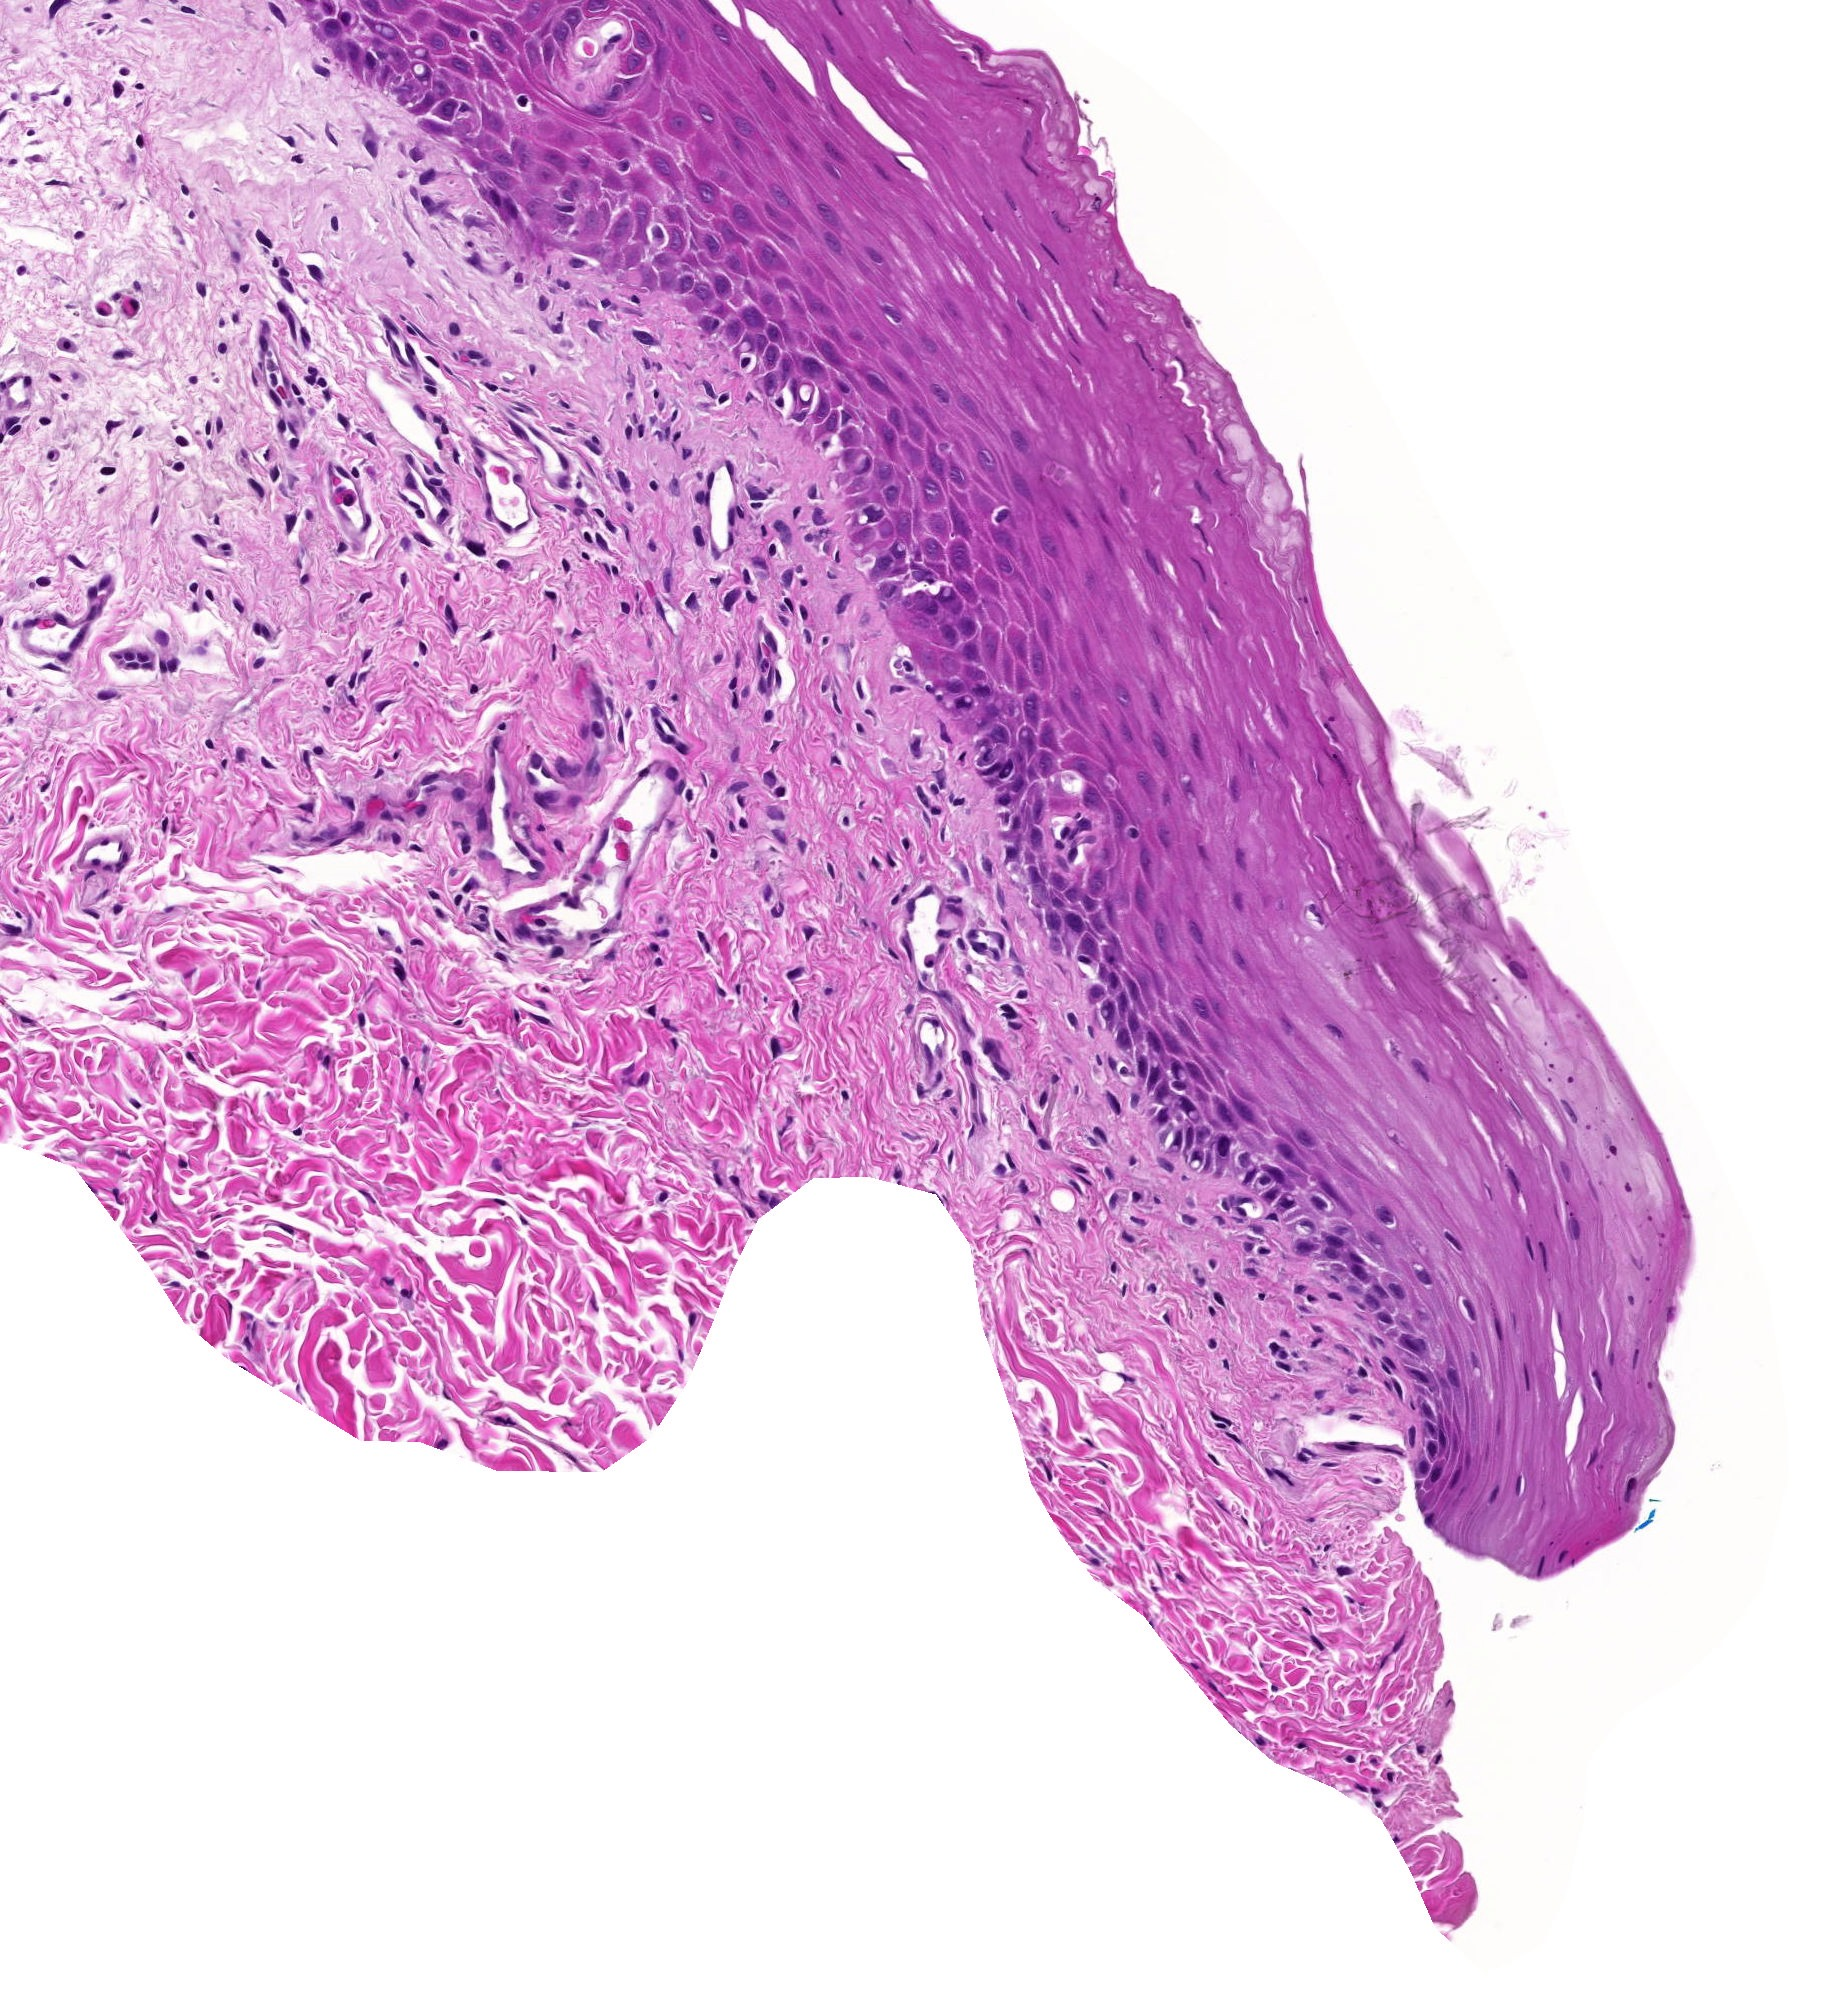epithelial: (1058, 904, 1092, 937), (1415, 1362, 1450, 1395), (1221, 1085, 1255, 1120), (430, 92, 463, 125), (476, 178, 509, 211), (469, 51, 502, 84), (362, 51, 396, 84), (343, 38, 376, 71), (368, 57, 401, 91), (477, 23, 511, 56), (411, 99, 444, 132), (322, 16, 355, 49), (476, 166, 509, 199), (443, 777, 476, 810), (693, 308, 727, 341), (814, 336, 847, 369), (871, 420, 904, 453), (857, 239, 890, 272), (808, 193, 842, 226), (626, 23, 659, 56), (878, 401, 911, 434), (814, 408, 847, 441), (951, 389, 984, 422), (810, 26, 843, 59), (815, 134, 849, 167), (552, 3, 585, 37), (699, 301, 732, 334), (749, 61, 782, 94), (706, 279, 739, 312), (605, 70, 638, 103), (810, 416, 843, 449), (516, 192, 549, 225), (808, 329, 842, 362), (558, 146, 591, 179), (706, 308, 739, 341), (747, 331, 781, 364), (767, 267, 800, 300), (659, 213, 692, 246), (538, 26, 572, 59), (904, 395, 937, 429), (817, 92, 850, 125), (932, 617, 965, 650), (1033, 235, 1066, 268), (993, 185, 1026, 218), (1202, 423, 1235, 456), (1094, 963, 1127, 997), (1072, 930, 1105, 963), (1223, 840, 1256, 873), (1040, 885, 1073, 918), (1012, 725, 1045, 758), (1065, 749, 1098, 782), (991, 749, 1025, 782), (1033, 530, 1066, 563), (1328, 754, 1361, 787), (1059, 679, 1092, 713), (1397, 829, 1431, 862), (1012, 707, 1045, 740), (1045, 901, 1079, 934), (1025, 692, 1058, 725), (1086, 498, 1119, 531), (1105, 965, 1138, 998), (1094, 747, 1127, 780), (1342, 1253, 1375, 1286), (1209, 1098, 1242, 1131), (1227, 1092, 1260, 1125), (1155, 1026, 1188, 1059), (1410, 1394, 1443, 1427), (1167, 1012, 1201, 1045), (1267, 1171, 1300, 1204), (1457, 1343, 1490, 1376), (1140, 1045, 1173, 1078), (1167, 1075, 1201, 1108), (1443, 1524, 1476, 1557), (1498, 951, 1532, 984), (1558, 1211, 1591, 1244), (1497, 1162, 1530, 1195), (1613, 1469, 1647, 1502), (1511, 1361, 1544, 1394), (1546, 1538, 1579, 1571), (1157, 1084, 1192, 1115), (354, 44, 385, 77), (328, 3, 361, 35), (336, 35, 369, 66), (443, 91, 474, 124), (436, 12, 467, 45), (408, 59, 441, 91), (422, 24, 453, 57), (376, 37, 408, 70), (418, 111, 451, 143), (364, 38, 396, 71), (463, 148, 497, 179), (450, 2, 483, 33), (340, 45, 371, 78), (737, 300, 768, 333), (795, 348, 828, 380), (756, 317, 789, 348), (645, 148, 678, 179), (753, 366, 786, 397), (598, 78, 631, 110), (805, 392, 838, 423), (829, 401, 862, 432), (537, 143, 570, 174), (549, 193, 580, 226), (828, 371, 861, 402), (688, 172, 721, 204), (941, 458, 972, 491), (497, 195, 530, 226), (605, 211, 638, 242), (876, 296, 910, 328), (971, 207, 1004, 239), (531, 35, 565, 66), (849, 449, 882, 481), (782, 348, 815, 380), (802, 291, 835, 322), (706, 16, 737, 49), (655, 199, 688, 230), (545, 17, 577, 51), (964, 35, 997, 66), (883, 357, 915, 390), (687, 277, 720, 308), (911, 469, 944, 500), (753, 282, 784, 315), (864, 155, 897, 186), (875, 477, 908, 509), (645, 244, 678, 275), (913, 328, 944, 361), (580, 233, 612, 267), (551, 120, 584, 152), (756, 193, 788, 226), (727, 110, 760, 141), (545, 202, 578, 233), (632, 261, 666, 293), (784, 80, 817, 111), (812, 211, 843, 244), (932, 451, 964, 484), (786, 382, 817, 415), (861, 451, 892, 484), (746, 307, 777, 340), (754, 70, 788, 101), (774, 364, 805, 397), (815, 317, 849, 348), (732, 284, 763, 317), (821, 343, 852, 376), (897, 439, 930, 470), (802, 354, 833, 387), (953, 610, 984, 643), (937, 671, 971, 702), (857, 498, 889, 531), (925, 580, 957, 613), (866, 547, 899, 578), (955, 634, 986, 667), (911, 559, 943, 592), (943, 538, 976, 570), (972, 693, 1004, 726), (882, 538, 915, 570), (934, 584, 965, 617), (944, 509, 976, 542), (577, 749, 608, 782), (976, 753, 1007, 786), (904, 580, 936, 613), (974, 627, 1005, 660), (847, 517, 878, 551), (922, 510, 955, 542), (969, 725, 1000, 758), (551, 754, 584, 786), (887, 509, 918, 542), (903, 556, 934, 589), (946, 519, 977, 552), (974, 716, 1007, 747), (876, 551, 910, 582), (915, 570, 946, 603), (883, 526, 915, 559), (922, 557, 955, 589), (869, 564, 901, 598), (1004, 422, 1035, 455), (1080, 186, 1112, 220), (1099, 261, 1133, 293), (1202, 458, 1234, 491), (1045, 207, 1079, 239), (1084, 301, 1115, 334), (1176, 427, 1207, 460), (1126, 336, 1159, 368), (1004, 465, 1035, 498), (1011, 124, 1044, 155), (1059, 331, 1091, 364), (1148, 359, 1181, 390), (1011, 143, 1044, 174), (1011, 84, 1042, 117), (991, 315, 1025, 347), (1037, 906, 1070, 937), (1221, 883, 1253, 916), (1180, 726, 1211, 760), (1021, 793, 1052, 826), (1145, 728, 1176, 761), (1030, 720, 1061, 753), (1073, 887, 1105, 920), (1322, 746, 1354, 779), (1019, 861, 1051, 894), (1138, 545, 1169, 578), (1127, 765, 1160, 796), (1094, 943, 1127, 974), (1082, 862, 1113, 895), (1187, 834, 1218, 868), (1223, 944, 1256, 976), (991, 782, 1023, 815), (1302, 895, 1333, 929), (1145, 915, 1176, 948), (1080, 908, 1113, 939), (1140, 618, 1173, 650), (1075, 563, 1106, 596), (1077, 876, 1108, 909), (1150, 780, 1181, 814), (1267, 699, 1298, 732), (1106, 678, 1138, 711), (1108, 976, 1140, 1009), (1091, 528, 1124, 559), (1011, 758, 1044, 789), (1080, 976, 1113, 1007), (1032, 578, 1065, 610), (1086, 941, 1119, 972), (1256, 733, 1289, 765), (1124, 965, 1155, 998), (1373, 862, 1404, 895), (1007, 732, 1038, 765), (1343, 805, 1377, 836), (1356, 902, 1389, 934), (1190, 613, 1221, 646), (1303, 761, 1335, 794), (1089, 956, 1120, 990), (1077, 895, 1108, 929), (1364, 847, 1397, 878), (993, 761, 1026, 793), (991, 524, 1025, 556), (1049, 869, 1080, 902), (1317, 737, 1349, 770), (1012, 803, 1045, 834), (1108, 812, 1141, 843), (1000, 753, 1033, 784), (1147, 923, 1178, 956), (1378, 873, 1411, 904), (1026, 866, 1059, 897), (1169, 1089, 1202, 1120), (1140, 1026, 1173, 1057), (1159, 1052, 1192, 1084), (1316, 1230, 1349, 1261), (1375, 1275, 1408, 1307), (1368, 1199, 1401, 1230), (1262, 1159, 1293, 1192), (1288, 1120, 1319, 1153), (1270, 1134, 1302, 1167), (1288, 1230, 1321, 1261), (1420, 1456, 1451, 1490), (1147, 1098, 1178, 1131), (1253, 1178, 1284, 1211), (1181, 1117, 1213, 1150), (1268, 1188, 1302, 1220), (1176, 1054, 1209, 1085), (1162, 1120, 1195, 1152), (1321, 1221, 1352, 1254), (1314, 1172, 1345, 1206), (1180, 1136, 1211, 1169), (1253, 1167, 1284, 1200), (1302, 1186, 1335, 1218), (1357, 1282, 1389, 1315), (1371, 1348, 1404, 1380), (1092, 995, 1126, 1026), (1424, 1425, 1457, 1456), (1370, 1301, 1401, 1334), (1173, 1110, 1204, 1143), (1187, 995, 1220, 1026), (1453, 1289, 1485, 1322), (1418, 1443, 1451, 1474), (1357, 1221, 1389, 1254), (1148, 1023, 1180, 1056), (1227, 1143, 1260, 1174), (1214, 1105, 1246, 1138), (1174, 1122, 1206, 1155), (1387, 1324, 1420, 1355), (1364, 1293, 1396, 1326), (1187, 1143, 1220, 1174), (1199, 1124, 1230, 1157), (1340, 1263, 1371, 1296), (1131, 1019, 1162, 1052), (1204, 1145, 1235, 1178), (1185, 1057, 1216, 1091), (1253, 1153, 1284, 1186), (1270, 1164, 1303, 1195), (1413, 1463, 1444, 1497), (1350, 1275, 1383, 1307), (1160, 1037, 1194, 1068), (1295, 1235, 1328, 1267), (1336, 1274, 1370, 1305), (1309, 1164, 1340, 1197), (1321, 1179, 1352, 1213), (1195, 1085, 1228, 1117), (1350, 1260, 1383, 1291), (1108, 995, 1141, 1026), (1413, 1502, 1444, 1535), (1432, 1685, 1465, 1716), (1526, 1235, 1559, 1267), (1547, 1153, 1580, 1185), (1620, 1340, 1652, 1373), (1652, 1294, 1683, 1328), (1500, 1469, 1533, 1500), (1528, 1244, 1561, 1275), (1666, 1190, 1697, 1223), (444, 49, 476, 80), (411, 85, 443, 117), (315, 10, 347, 42), (476, 103, 507, 134), (425, 71, 457, 103), (387, 77, 418, 108), (427, 19, 458, 51), (326, 37, 357, 68), (404, 2, 436, 33), (383, 42, 415, 73), (376, 19, 408, 51), (434, 75, 465, 106), (474, 768, 505, 800), (706, 268, 737, 300), (662, 106, 693, 138), (695, 228, 727, 260), (859, 366, 890, 397), (718, 312, 749, 343), (619, 45, 650, 77), (756, 336, 788, 368), (580, 96, 612, 127), (770, 352, 802, 383), (923, 376, 955, 408), (669, 267, 700, 298), (753, 240, 784, 272), (570, 146, 601, 178), (718, 247, 749, 279), (725, 197, 756, 228), (817, 225, 849, 256), (833, 420, 864, 451), (558, 172, 589, 204), (643, 42, 674, 73), (530, 159, 561, 190), (641, 218, 673, 249), (779, 371, 810, 402), (934, 294, 965, 326), (777, 129, 808, 160), (688, 96, 720, 127), (869, 458, 901, 490), (763, 179, 795, 211), (622, 167, 653, 199), (505, 138, 537, 169), (819, 145, 850, 176), (721, 127, 753, 159), (676, 272, 707, 303), (660, 223, 692, 254), (798, 387, 829, 418), (730, 204, 761, 235), (516, 33, 547, 64), (969, 443, 1000, 474), (868, 371, 899, 402), (901, 416, 932, 448), (883, 148, 915, 179), (552, 179, 584, 211), (723, 321, 754, 352), (815, 153, 847, 185), (781, 289, 812, 321), (965, 674, 997, 706), (946, 688, 977, 720), (915, 592, 946, 624), (950, 571, 981, 603), (943, 613, 974, 645), (917, 531, 948, 563), (958, 657, 990, 688), (969, 707, 1000, 739), (972, 568, 1004, 599), (941, 502, 972, 533), (939, 592, 971, 624), (946, 549, 977, 580), (915, 551, 946, 582), (964, 1103, 995, 1134), (1009, 294, 1040, 326), (1183, 472, 1214, 503), (1016, 152, 1047, 183), (1171, 305, 1202, 336), (1106, 477, 1138, 509), (1169, 352, 1201, 383), (1023, 373, 1054, 404), (995, 836, 1026, 868), (1002, 767, 1033, 798), (1218, 772, 1249, 803), (1016, 686, 1047, 718), (1117, 972, 1148, 1003), (1075, 782, 1106, 814), (1030, 746, 1061, 777), (1124, 878, 1155, 909), (1131, 843, 1162, 875), (1042, 866, 1073, 897), (1181, 916, 1213, 948), (1448, 894, 1479, 925), (1117, 817, 1148, 848), (998, 808, 1030, 840), (1140, 686, 1171, 718), (1068, 943, 1099, 974), (1056, 876, 1087, 908), (1094, 894, 1126, 925), (1054, 502, 1086, 533), (1021, 645, 1052, 676), (1148, 821, 1180, 852), (1037, 895, 1068, 927), (1185, 514, 1216, 545), (1098, 930, 1129, 962), (1185, 552, 1216, 584), (1110, 716, 1141, 747), (1016, 697, 1047, 728), (1030, 613, 1061, 645), (1052, 894, 1084, 925), (1103, 801, 1134, 833), (1005, 666, 1037, 697), (1063, 883, 1094, 915), (991, 498, 1023, 530), (1030, 732, 1061, 763), (1091, 838, 1122, 869), (1415, 869, 1446, 901), (1066, 913, 1098, 944), (1077, 920, 1108, 951), (1009, 692, 1040, 723), (1019, 831, 1051, 862), (1037, 876, 1068, 908), (1129, 819, 1160, 850), (1091, 718, 1122, 749), (1227, 733, 1258, 765), (1234, 746, 1265, 777), (1207, 1127, 1239, 1159), (1397, 1329, 1429, 1361), (1417, 1432, 1448, 1463), (1138, 1059, 1169, 1091), (1408, 1261, 1439, 1293), (1145, 1077, 1176, 1108), (1404, 1361, 1436, 1392), (1164, 1068, 1195, 1099), (1415, 1413, 1446, 1444), (1126, 1047, 1157, 1078), (1117, 1007, 1148, 1038), (1437, 1361, 1469, 1392), (1406, 1451, 1437, 1483), (1406, 1054, 1437, 1085), (1270, 1009, 1302, 1040), (1439, 1463, 1471, 1495), (1131, 1054, 1162, 1085), (1147, 1054, 1178, 1085), (1437, 1225, 1469, 1256), (1291, 1207, 1322, 1239), (1206, 1091, 1237, 1122), (1232, 1101, 1263, 1132), (1199, 1030, 1230, 1061), (1185, 1080, 1216, 1111), (1324, 1214, 1356, 1246), (1166, 1094, 1197, 1125), (1436, 1427, 1467, 1458), (1443, 1456, 1474, 1488), (1406, 1429, 1437, 1460), (1131, 1037, 1162, 1068), (1124, 1026, 1155, 1057), (1582, 1362, 1613, 1394), (1514, 1232, 1546, 1263), (1596, 1341, 1627, 1373), (1554, 1096, 1586, 1127), (1525, 1549, 1556, 1580), (429, 105, 458, 138), (741, 314, 770, 347), (922, 448, 951, 481), (598, 164, 627, 197), (626, 199, 659, 228), (666, 17, 695, 51), (497, 12, 526, 45), (652, 153, 681, 186), (932, 509, 965, 538), (1004, 629, 1033, 662), (1316, 707, 1345, 740), (1338, 1244, 1371, 1274), (1363, 1275, 1392, 1308), (1246, 1159, 1275, 1192), (1207, 1138, 1241, 1167), (1155, 1073, 1185, 1106), (1579, 1441, 1608, 1474), (333, 24, 362, 56), (833, 441, 864, 470), (713, 216, 742, 247), (577, 202, 606, 233), (842, 321, 873, 350), (617, 240, 646, 272), (875, 575, 904, 606), (971, 742, 1000, 774), (1019, 819, 1051, 848), (1173, 772, 1202, 803), (997, 821, 1028, 850), (1309, 659, 1338, 690), (1004, 740, 1033, 772), (1112, 1021, 1141, 1052), (1321, 1014, 1350, 1045), (1145, 1035, 1174, 1066), (1546, 1305, 1575, 1336), (741, 328, 770, 357)
fibroblast and endothelial: (1267, 1338, 1300, 1373), (1106, 1084, 1141, 1117), (240, 470, 274, 503), (394, 314, 427, 347), (124, 124, 157, 157), (274, 125, 307, 159), (416, 343, 450, 376), (51, 84, 84, 117), (120, 416, 153, 449), (38, 361, 71, 394), (399, 138, 432, 171), (422, 425, 455, 458), (392, 242, 425, 275), (63, 218, 96, 251), (3, 253, 37, 286), (174, 362, 207, 395), (465, 343, 498, 376), (463, 437, 497, 470), (188, 411, 221, 444), (240, 362, 274, 395), (17, 141, 51, 174), (462, 455, 495, 488), (249, 336, 282, 369), (125, 643, 159, 676), (106, 841, 139, 875), (274, 503, 307, 537), (16, 606, 49, 639), (451, 869, 484, 902), (209, 531, 242, 564), (314, 664, 347, 697), (425, 498, 458, 531), (470, 618, 504, 652), (289, 740, 322, 774), (465, 899, 498, 932), (291, 821, 324, 854), (369, 800, 402, 833), (89, 843, 122, 876), (472, 497, 505, 530), (10, 908, 44, 941), (389, 1275, 422, 1308), (389, 1045, 422, 1078), (138, 1200, 171, 1233), (166, 1146, 199, 1179), (159, 1267, 192, 1300), (706, 382, 739, 415), (547, 444, 580, 477), (606, 463, 639, 497), (598, 23, 631, 56), (619, 415, 652, 448), (739, 477, 772, 510), (632, 347, 666, 380), (559, 246, 592, 279), (540, 308, 573, 341), (516, 352, 549, 385), (632, 328, 666, 361), (540, 936, 573, 969), (666, 730, 699, 763), (716, 674, 749, 707), (674, 585, 707, 618), (638, 936, 671, 969), (535, 578, 568, 611), (770, 566, 803, 599), (524, 916, 558, 949), (760, 660, 793, 693), (760, 728, 793, 761), (929, 720, 962, 753), (971, 848, 1004, 882), (540, 754, 573, 787), (559, 617, 592, 650), (634, 667, 667, 700), (775, 557, 808, 591), (641, 944, 674, 977), (802, 498, 835, 531), (937, 892, 971, 925), (584, 497, 617, 530), (730, 667, 763, 700), (516, 857, 549, 890), (875, 843, 908, 876), (910, 784, 943, 817), (747, 681, 781, 714), (652, 742, 685, 775), (735, 580, 768, 613), (646, 1179, 680, 1213), (950, 1009, 983, 1042), (612, 1056, 645, 1089), (1084, 1117, 1117, 1150), (1126, 1179, 1159, 1213), (1032, 1456, 1065, 1490), (1209, 1192, 1242, 1225), (1345, 1355, 1378, 1389), (1059, 1167, 1092, 1200), (1195, 1246, 1228, 1279), (1232, 1159, 1265, 1192), (1106, 1274, 1140, 1307), (1295, 1443, 1328, 1476), (1211, 1409, 1244, 1443), (1328, 1333, 1361, 1366), (1404, 1732, 1437, 1765), (1256, 1671, 1289, 1704), (343, 787, 378, 819), (932, 932, 967, 963), (371, 310, 404, 341), (249, 225, 282, 256), (247, 326, 279, 359), (333, 456, 366, 488), (94, 409, 127, 441), (118, 287, 150, 321), (300, 254, 331, 287), (411, 159, 443, 192), (10, 364, 42, 397), (296, 357, 328, 390), (162, 449, 193, 483), (105, 338, 138, 369), (101, 71, 132, 105), (274, 305, 307, 336), (265, 409, 296, 443), (331, 481, 364, 512), (415, 371, 448, 402), (202, 409, 233, 443), (281, 143, 314, 174), (38, 166, 70, 199), (279, 425, 310, 458), (206, 333, 239, 364), (261, 249, 294, 280), (458, 246, 491, 277), (228, 272, 260, 305), (354, 422, 387, 453), (404, 397, 437, 429), (401, 340, 434, 371), (258, 456, 289, 490), (105, 411, 138, 443), (260, 382, 293, 413), (251, 437, 282, 470), (416, 469, 450, 500), (169, 172, 200, 206), (420, 451, 453, 483), (185, 274, 218, 305), (355, 129, 387, 162), (85, 294, 117, 328), (124, 70, 155, 103), (284, 378, 315, 411), (267, 366, 300, 397), (249, 315, 281, 348), (277, 315, 310, 347), (106, 282, 138, 315), (394, 443, 425, 476), (256, 362, 289, 394), (113, 73, 145, 106), (404, 169, 436, 202), (120, 268, 152, 301), (315, 120, 347, 153), (91, 2, 124, 33), (390, 343, 423, 375), (418, 192, 450, 225), (174, 199, 207, 230), (460, 430, 493, 462), (261, 0, 294, 31), (416, 401, 448, 434), (77, 585, 108, 618), (153, 650, 186, 681), (406, 523, 437, 556), (44, 603, 77, 634), (300, 735, 333, 767), (26, 564, 57, 598), (89, 679, 120, 713), (366, 688, 397, 721), (406, 631, 437, 664), (342, 812, 375, 843), (287, 563, 321, 594), (249, 747, 282, 779), (350, 505, 382, 538), (183, 523, 214, 556), (404, 794, 437, 826), (49, 639, 80, 672), (221, 591, 254, 622), (380, 821, 411, 854), (89, 566, 120, 599), (77, 596, 108, 629), (117, 646, 148, 679), (326, 531, 359, 563), (401, 925, 434, 956), (260, 854, 291, 887), (333, 786, 364, 819), (179, 591, 213, 622), (350, 638, 382, 671), (138, 498, 171, 530), (457, 672, 490, 704), (465, 807, 498, 838), (477, 728, 511, 760), (200, 503, 232, 537), (336, 664, 368, 697), (282, 502, 315, 533), (335, 683, 368, 714), (366, 916, 399, 948), (465, 909, 497, 943), (293, 498, 326, 530), (84, 836, 117, 868), (348, 650, 380, 683), (207, 747, 240, 779), (441, 807, 472, 840), (148, 634, 179, 667), (99, 828, 131, 861), (362, 756, 396, 787), (82, 578, 113, 611), (308, 693, 342, 725), (477, 915, 509, 948), (387, 828, 420, 859), (444, 876, 477, 908), (409, 777, 443, 808), (397, 787, 430, 819), (465, 796, 497, 829), (9, 1003, 42, 1035), (185, 1239, 218, 1270), (281, 1115, 314, 1146), (310, 1044, 342, 1077), (371, 1265, 404, 1296), (443, 1005, 474, 1038), (232, 1326, 265, 1357), (350, 1178, 382, 1211), (481, 1402, 512, 1436), (235, 1308, 267, 1341), (479, 1148, 512, 1179), (146, 1009, 178, 1042), (230, 1300, 261, 1333), (213, 1289, 244, 1322), (627, 321, 659, 354), (638, 469, 669, 502), (693, 463, 727, 495), (578, 308, 610, 341), (687, 479, 720, 510), (693, 373, 727, 404), (713, 451, 746, 483), (526, 287, 559, 319), (796, 476, 828, 509), (639, 376, 673, 408), (517, 416, 549, 449), (500, 462, 531, 495), (638, 418, 671, 449), (655, 397, 688, 429), (502, 261, 533, 294), (782, 399, 814, 432), (601, 284, 634, 315), (681, 521, 714, 552), (627, 756, 660, 787), (777, 956, 808, 990), (760, 772, 793, 803), (890, 930, 923, 962), (594, 509, 626, 542), (713, 585, 746, 617), (754, 624, 786, 657), (725, 808, 758, 840), (962, 929, 993, 962), (505, 833, 537, 866), (753, 699, 784, 732), (765, 510, 796, 544), (753, 761, 786, 793), (868, 847, 899, 880), (646, 716, 678, 749), (688, 923, 720, 956), (700, 564, 734, 596), (917, 793, 950, 824), (580, 713, 612, 746), (519, 847, 551, 880), (519, 892, 552, 923), (910, 876, 943, 908), (556, 883, 587, 916), (725, 580, 758, 611), (732, 571, 763, 605), (957, 918, 990, 949), (509, 902, 540, 936), (753, 653, 786, 685), (598, 716, 631, 747), (913, 944, 944, 977), (723, 780, 756, 812), (890, 828, 922, 861), (528, 780, 559, 814), (760, 895, 793, 927), (608, 591, 639, 624), (592, 939, 626, 970), (643, 592, 676, 624), (747, 542, 781, 573), (714, 523, 746, 556), (730, 559, 761, 592), (643, 922, 674, 955), (580, 920, 613, 951), (537, 923, 568, 956), (882, 672, 913, 706), (753, 880, 786, 911), (951, 740, 984, 772), (720, 772, 753, 803), (814, 854, 847, 885), (659, 681, 692, 713), (768, 519, 802, 551), (636, 530, 667, 563), (843, 672, 875, 706), (746, 646, 779, 678), (760, 798, 793, 829), (821, 540, 854, 571), (652, 563, 683, 596), (953, 951, 984, 984), (700, 537, 732, 570), (558, 786, 591, 817), (716, 577, 747, 610), (601, 514, 634, 545), (793, 618, 824, 652), (570, 861, 601, 894), (856, 848, 887, 882), (971, 934, 1002, 967), (727, 678, 758, 711), (795, 521, 828, 552), (524, 836, 556, 869), (739, 552, 770, 585), (807, 624, 840, 655), (821, 686, 852, 720), (747, 634, 779, 667), (580, 676, 613, 707), (641, 709, 674, 740), (585, 685, 617, 718), (922, 937, 953, 970), (904, 970, 937, 1002), (537, 636, 570, 667), (889, 876, 922, 908), (957, 941, 990, 972), (716, 664, 747, 697), (730, 643, 763, 674), (707, 530, 739, 563), (524, 1003, 558, 1035), (751, 1181, 782, 1214), (627, 1063, 659, 1096), (734, 1195, 767, 1226), (707, 1164, 741, 1195), (676, 1301, 707, 1334), (882, 1159, 915, 1190), (828, 1078, 861, 1110), (634, 995, 667, 1026), (957, 1073, 990, 1105), (500, 1000, 531, 1033), (958, 1110, 990, 1143), (922, 1035, 953, 1068), (917, 1052, 948, 1085), (739, 1188, 772, 1220), (937, 1096, 971, 1127), (770, 1106, 802, 1139), (577, 1287, 610, 1319), (551, 1408, 584, 1439), (1056, 836, 1087, 869), (1004, 963, 1037, 995), (1051, 815, 1082, 848), (1061, 812, 1094, 843), (1052, 826, 1086, 857), (1068, 803, 1099, 836), (995, 936, 1026, 969), (1262, 1456, 1293, 1490), (1260, 1331, 1291, 1364), (1268, 1463, 1302, 1495), (1371, 1434, 1404, 1465), (1317, 1280, 1350, 1312), (1028, 1127, 1059, 1160), (1378, 1371, 1411, 1402), (1007, 1171, 1038, 1204), (1108, 1181, 1141, 1213), (1396, 1416, 1427, 1449), (1066, 1207, 1098, 1240), (1195, 1294, 1228, 1326), (1220, 1186, 1251, 1220), (1098, 1183, 1131, 1214), (995, 1145, 1026, 1178), (1065, 1153, 1096, 1186), (1235, 1254, 1267, 1287), (1209, 1347, 1241, 1380), (998, 1010, 1032, 1042), (1173, 1204, 1206, 1235), (1235, 1232, 1268, 1263), (1106, 1054, 1140, 1085), (1268, 1321, 1300, 1354), (1115, 1145, 1148, 1176), (1322, 1430, 1356, 1462), (1338, 1401, 1371, 1432), (1092, 1157, 1126, 1188), (1242, 1213, 1274, 1246), (1119, 1084, 1152, 1115), (1070, 1164, 1101, 1197), (1038, 1063, 1072, 1094), (1312, 1448, 1343, 1481), (1086, 1044, 1117, 1077), (1073, 1425, 1105, 1458), (1303, 1376, 1335, 1409), (1075, 1014, 1106, 1047), (1235, 1220, 1267, 1253), (1258, 1185, 1289, 1218), (1382, 1436, 1413, 1469), (1403, 1470, 1436, 1502), (1302, 1625, 1333, 1659), (1357, 1774, 1389, 1807), (1244, 1725, 1275, 1758), (1382, 1627, 1413, 1660), (1373, 1760, 1404, 1793), (1286, 1728, 1317, 1761), (1079, 1545, 1112, 1577), (1289, 1594, 1322, 1625), (1366, 1645, 1397, 1678), (1197, 1669, 1228, 1702), (1310, 1531, 1343, 1563), (1357, 1744, 1390, 1775), (1228, 1503, 1260, 1537), (394, 334, 425, 366), (303, 366, 335, 397), (92, 455, 124, 486), (164, 434, 195, 465), (270, 268, 301, 300), (328, 404, 359, 436), (268, 293, 300, 324), (411, 186, 443, 218), (307, 56, 338, 87), (310, 376, 342, 408), (28, 404, 59, 436), (380, 333, 411, 364), (35, 439, 66, 470), (51, 329, 82, 361), (458, 340, 490, 371), (319, 207, 350, 239), (279, 373, 310, 404), (453, 437, 484, 469), (476, 371, 507, 402), (220, 240, 251, 272), (427, 418, 458, 449), (195, 420, 227, 451), (174, 427, 206, 458), (0, 411, 31, 443), (275, 408, 307, 439), (164, 423, 195, 455), (375, 322, 406, 354), (390, 476, 422, 507), (453, 228, 484, 260), (319, 455, 350, 486), (401, 474, 432, 505), (45, 78, 77, 110), (289, 364, 321, 395), (279, 134, 310, 166), (472, 481, 504, 512), (96, 284, 127, 315), (193, 429, 225, 460), (383, 955, 415, 986), (460, 531, 491, 563), (432, 596, 463, 627), (450, 826, 481, 857), (110, 641, 141, 672), (63, 622, 94, 653), (35, 650, 66, 681), (59, 545, 91, 577), (242, 646, 274, 678), (348, 580, 380, 611), (75, 575, 106, 606), (77, 897, 108, 929), (150, 808, 181, 840), (101, 892, 132, 923), (193, 728, 225, 760), (225, 739, 256, 770), (291, 791, 322, 822), (396, 524, 427, 556), (190, 575, 221, 606), (0, 913, 31, 944), (423, 897, 455, 929), (178, 578, 209, 610), (308, 821, 340, 852), (80, 848, 112, 880), (441, 561, 472, 592), (146, 622, 178, 653), (87, 826, 118, 857), (28, 770, 59, 801), (134, 650, 166, 681), (57, 631, 89, 662), (319, 824, 350, 855), (71, 603, 103, 634), (380, 739, 411, 770), (73, 857, 105, 889), (333, 819, 364, 850), (68, 617, 99, 648), (272, 1213, 303, 1244), (345, 1003, 376, 1035), (425, 1427, 457, 1458), (402, 1070, 434, 1101), (101, 1178, 132, 1209), (174, 1040, 206, 1071), (120, 1089, 152, 1120), (106, 1138, 138, 1169), (430, 1378, 462, 1409), (655, 420, 687, 451), (502, 415, 533, 446), (671, 437, 702, 469), (577, 429, 608, 460), (591, 287, 622, 319), (563, 472, 594, 503), (549, 268, 580, 300), (545, 413, 577, 444), (505, 392, 537, 423), (549, 389, 580, 420), (667, 429, 699, 460), (781, 389, 812, 420), (585, 524, 617, 556), (657, 758, 688, 789), (511, 916, 542, 948), (521, 746, 552, 777), (652, 723, 683, 754), (517, 814, 549, 845), (904, 779, 936, 810), (718, 685, 749, 716), (775, 589, 807, 620), (943, 786, 974, 817), (530, 758, 561, 789), (653, 707, 685, 739), (763, 784, 795, 815), (927, 916, 958, 948), (793, 916, 824, 948), (641, 699, 673, 730), (671, 777, 702, 808), (542, 829, 573, 861), (551, 549, 582, 580), (899, 730, 930, 761), (923, 767, 955, 798), (746, 669, 777, 700), (819, 744, 850, 775), (504, 510, 535, 542), (786, 829, 817, 861), (596, 554, 627, 585), (788, 596, 819, 627), (587, 822, 619, 854), (747, 514, 779, 545), (843, 713, 875, 744), (786, 566, 817, 598), (718, 502, 749, 533), (763, 821, 795, 852), (589, 913, 620, 944), (695, 819, 727, 850), (876, 937, 908, 969), (702, 643, 734, 674), (565, 754, 596, 786), (768, 605, 800, 636), (612, 866, 643, 897), (812, 974, 843, 1005), (528, 974, 559, 1005), (660, 739, 692, 770), (509, 819, 540, 850), (929, 977, 960, 1009), (585, 697, 617, 728), (659, 718, 690, 749), (901, 883, 932, 915), (502, 920, 533, 951), (922, 679, 953, 711), (779, 603, 810, 634), (594, 927, 626, 958), (718, 1164, 749, 1195), (760, 1031, 791, 1063), (951, 1042, 983, 1073), (972, 1031, 1004, 1063), (918, 1005, 950, 1037), (932, 1077, 964, 1108), (659, 1026, 690, 1057), (911, 1038, 943, 1070), (934, 1141, 965, 1172), (923, 1061, 955, 1092), (918, 1132, 950, 1164), (507, 1204, 538, 1235), (955, 1033, 986, 1064), (1099, 1089, 1131, 1120), (1335, 1430, 1366, 1462), (1206, 1404, 1237, 1436), (1202, 1282, 1234, 1314), (1218, 1422, 1249, 1453), (993, 995, 1025, 1026), (1268, 1350, 1300, 1382), (1288, 1439, 1319, 1470), (1225, 1197, 1256, 1228), (1289, 1277, 1321, 1308), (1016, 1110, 1047, 1141), (1112, 1221, 1143, 1253), (1026, 1082, 1058, 1113), (1096, 1047, 1127, 1078), (1246, 1280, 1277, 1312), (1136, 1272, 1167, 1303), (1098, 1251, 1129, 1282), (1122, 1204, 1153, 1235), (1183, 1263, 1214, 1294), (1197, 1443, 1228, 1474), (1300, 1326, 1331, 1357), (1228, 1183, 1260, 1214), (1204, 1204, 1235, 1235), (1302, 1314, 1333, 1345), (1361, 1324, 1392, 1355), (991, 1057, 1023, 1089), (1094, 1082, 1126, 1113), (1326, 1556, 1357, 1587), (1363, 1787, 1394, 1819), (1422, 1742, 1453, 1774), (1164, 1561, 1195, 1592), (1084, 1495, 1115, 1526), (1596, 1132, 1627, 1164), (1631, 1503, 1662, 1535), (267, 258, 300, 287), (396, 465, 425, 498), (396, 451, 425, 484), (415, 361, 444, 394), (429, 477, 458, 510), (415, 761, 444, 794), (103, 848, 132, 882), (402, 497, 436, 526), (469, 840, 502, 869), (450, 889, 479, 922), (699, 836, 728, 869), (896, 889, 925, 922), (915, 775, 944, 808), (828, 587, 857, 620), (925, 927, 958, 956), (714, 812, 747, 841), (781, 993, 810, 1026), (556, 1443, 589, 1472), (1152, 1301, 1181, 1334), (1335, 1742, 1364, 1775), (1411, 1739, 1444, 1768), (289, 321, 321, 350), (425, 408, 457, 437), (439, 314, 470, 343), (441, 439, 470, 470), (455, 206, 486, 235), (49, 380, 80, 409), (246, 613, 275, 645), (437, 610, 469, 639), (401, 831, 430, 862), (418, 880, 450, 909), (389, 563, 418, 594), (242, 969, 274, 998), (347, 660, 376, 692), (89, 880, 120, 909), (281, 821, 310, 852), (396, 779, 427, 808), (483, 939, 512, 970), (549, 465, 578, 497), (516, 761, 545, 793), (664, 772, 693, 803), (718, 974, 749, 1003), (706, 976, 735, 1007), (720, 739, 749, 770), (652, 1009, 683, 1038), (910, 1077, 941, 1106), (894, 993, 923, 1024), (1197, 1328, 1228, 1357), (1058, 1003, 1087, 1035), (1112, 1362, 1141, 1394), (1152, 1150, 1181, 1181), (1347, 1774, 1378, 1803), (1180, 1650, 1209, 1681), (1206, 1490, 1235, 1521), (497, 1404, 524, 1437)
inflammatory: (1282, 1272, 1316, 1303)
lymphocyte: (106, 54, 139, 87), (505, 84, 538, 117), (652, 469, 685, 502), (1295, 1282, 1328, 1315), (458, 17, 490, 51), (218, 301, 249, 334), (49, 362, 82, 394), (763, 385, 795, 418), (728, 345, 760, 378), (619, 282, 652, 314), (570, 538, 601, 571), (878, 883, 910, 916), (714, 563, 747, 594), (725, 796, 756, 829), (829, 803, 861, 836), (913, 672, 946, 704), (578, 517, 612, 549), (1005, 976, 1037, 1009), (1248, 1233, 1279, 1267), (1256, 1200, 1289, 1232), (1380, 1822, 1411, 1855), (441, 883, 472, 915), (608, 150, 639, 181), (770, 380, 802, 411), (524, 906, 556, 937), (572, 521, 603, 552), (892, 650, 923, 681), (781, 497, 812, 528), (716, 643, 747, 674), (852, 697, 883, 728), (1044, 829, 1075, 861), (1021, 1204, 1052, 1235), (808, 429, 842, 458), (612, 699, 645, 728), (756, 535, 788, 564), (944, 929, 976, 958), (646, 915, 678, 944)
